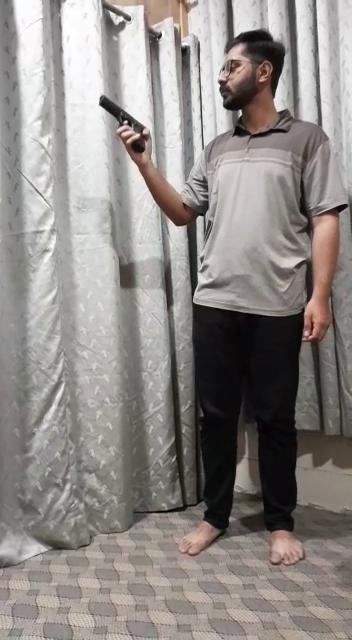criminal: (93, 25, 352, 569)
weapon: (94, 93, 155, 159)
